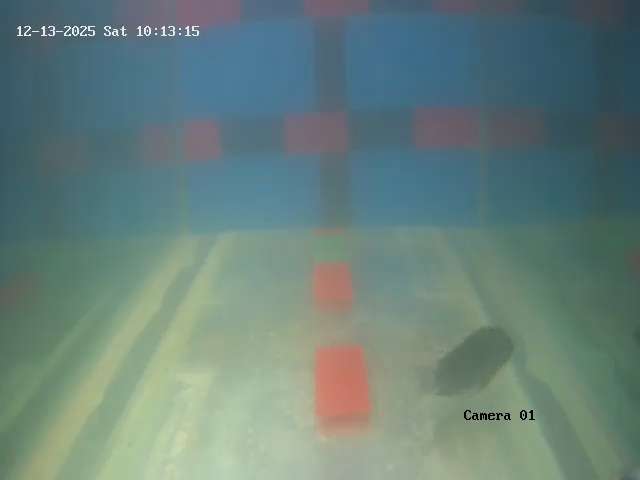fish: (427, 322, 518, 401)
